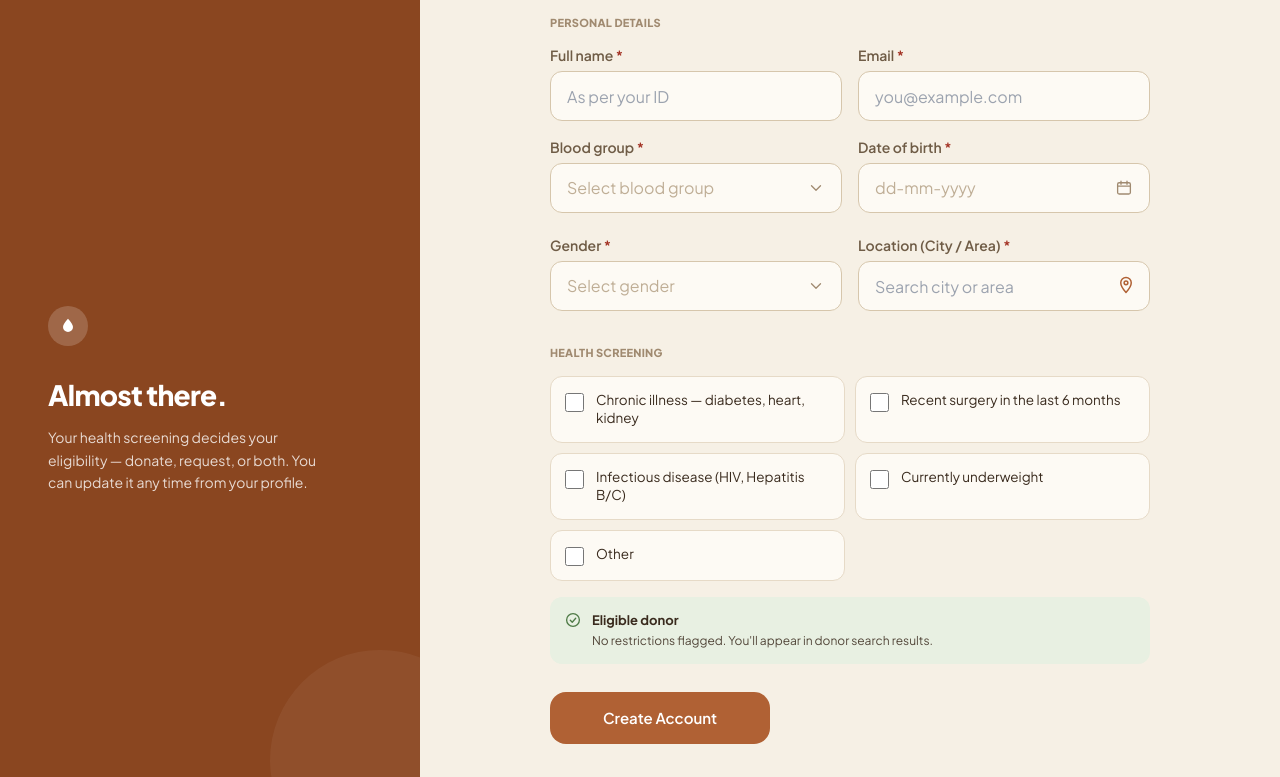
RegisterStubPage (CHH-F02 Individual Registration) › shows validation errors and stays on the page when submitted empty
(page scrolled)
Click the button "Create Account" at coordinates (660, 718), box 550,692 -> 770,744
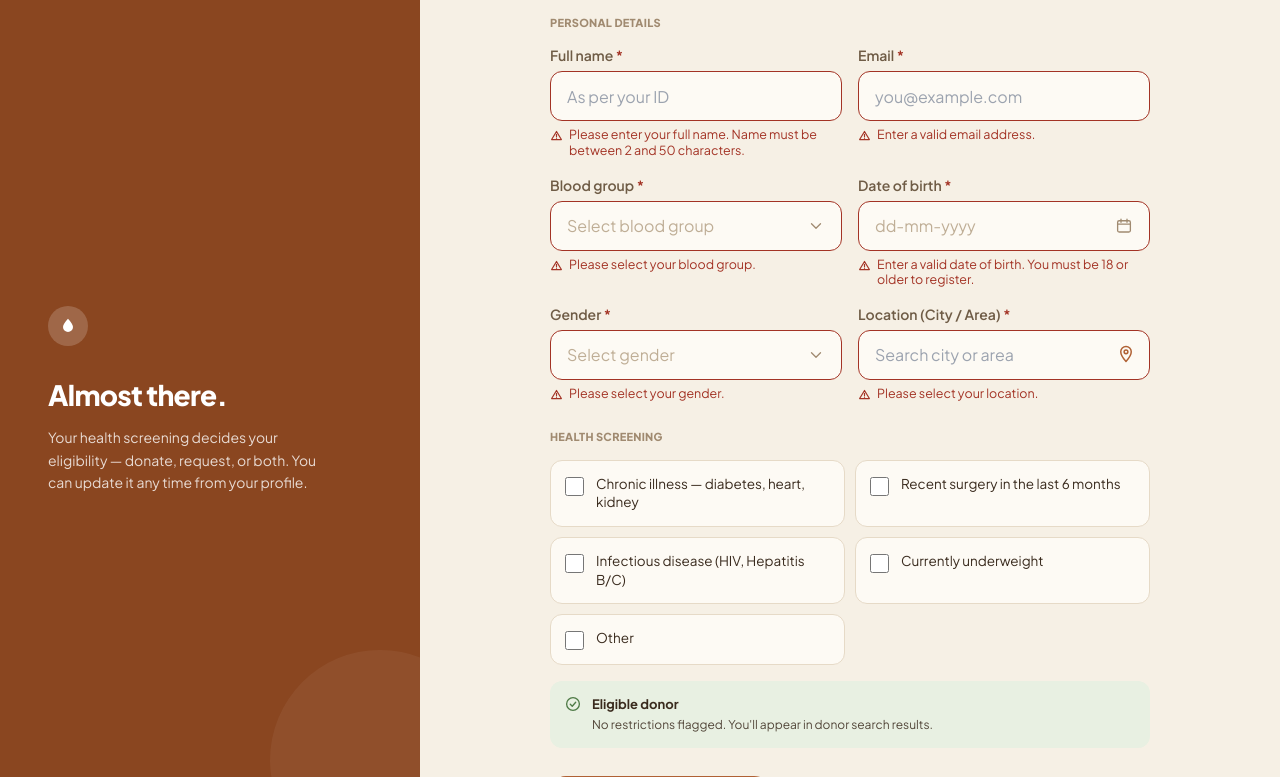
Result: the text "Please enter your full name. Name must be between 2 and 50 characters." is shown at 550,127 -> 842,159
